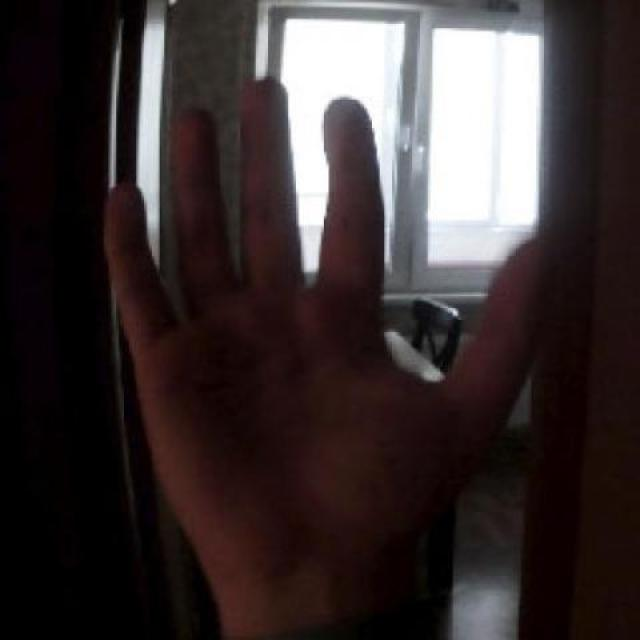Open Hand: (83, 71, 565, 637)
